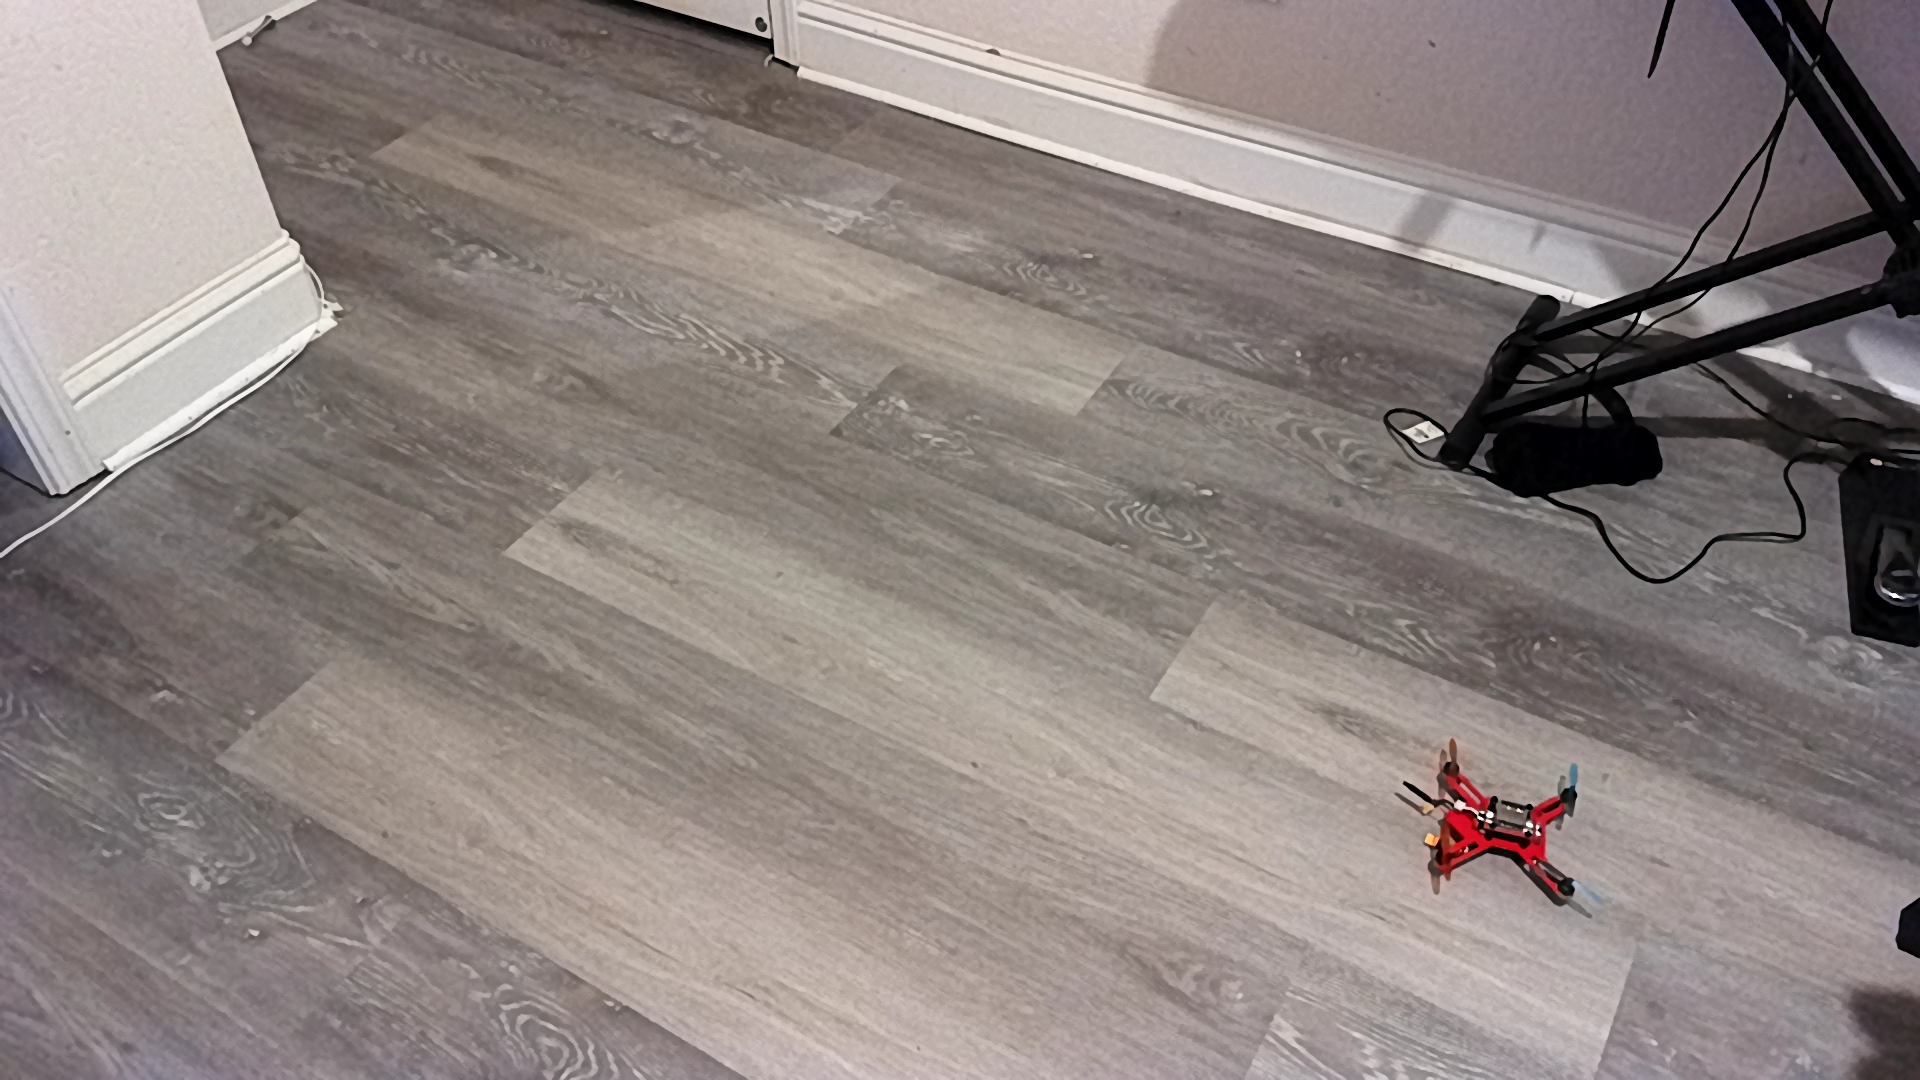drone: (1400, 729, 1611, 915)
